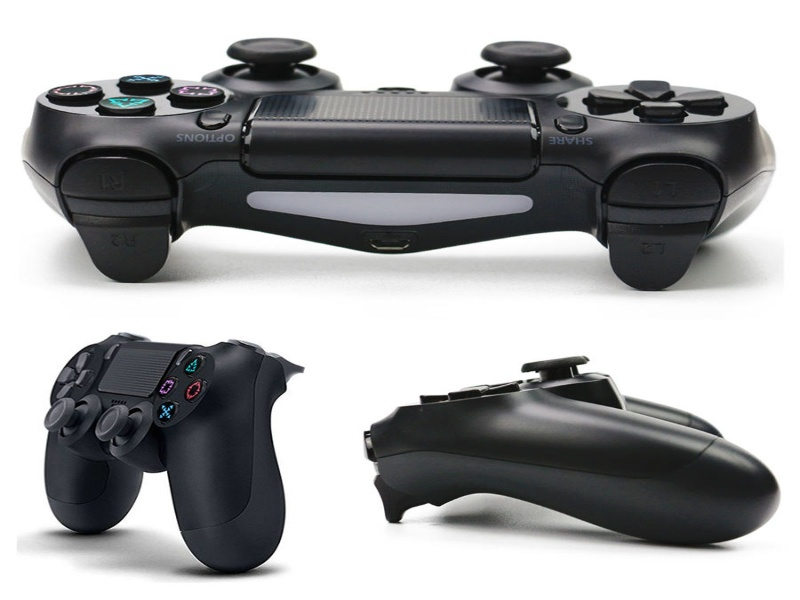ps4 joystick: (25, 33, 780, 298)
